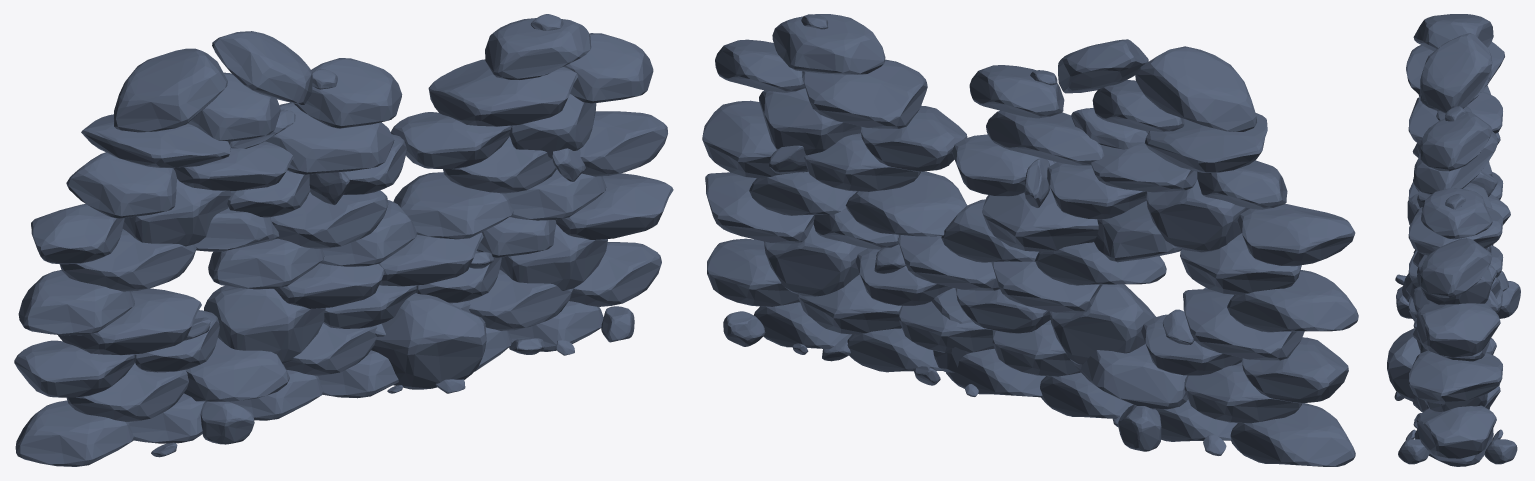
Rendered from Vampire_Assets_Wall2.fbx.
3 renders of one model, left to right at view 1: azimuth 30°, elevation 25°; view 2: azimuth 150°, elevation 25°; view 3: azimuth 270°, elevation 25°, orthographic. The views are drawn at different scales.
Visible parts, largest first — view 1: Rock.123; view 2: Rock.123; view 3: Rock.123.
Part boxes in pixels (box(x1,y1,x2,y2)): Rock.123: box(14, 14, 673, 466); Rock.123: box(702, 14, 1358, 466); Rock.123: box(1387, 14, 1520, 466).
Bounding box in the file's own units: 203377 × 112790 × 45695.
